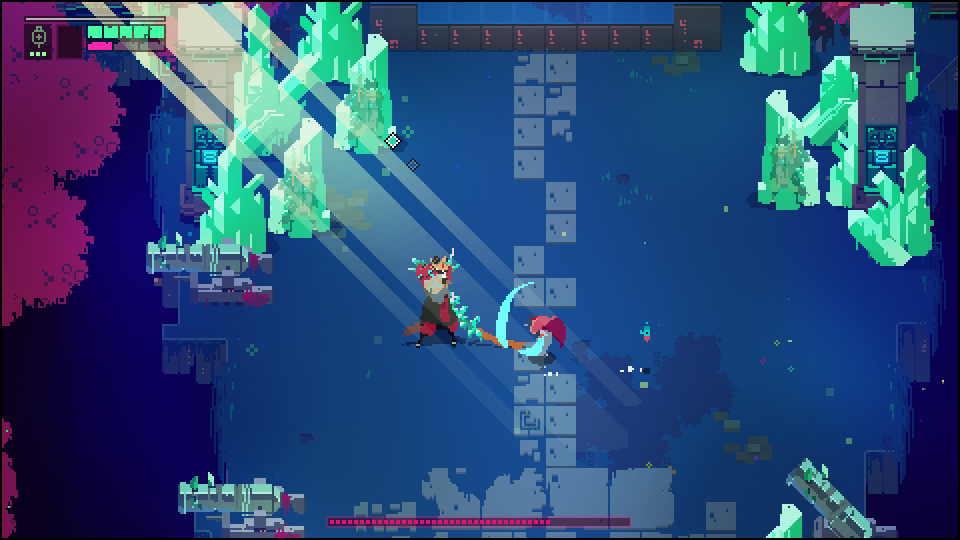hanged_man: (400, 242, 493, 349)
player: (500, 288, 572, 365)
